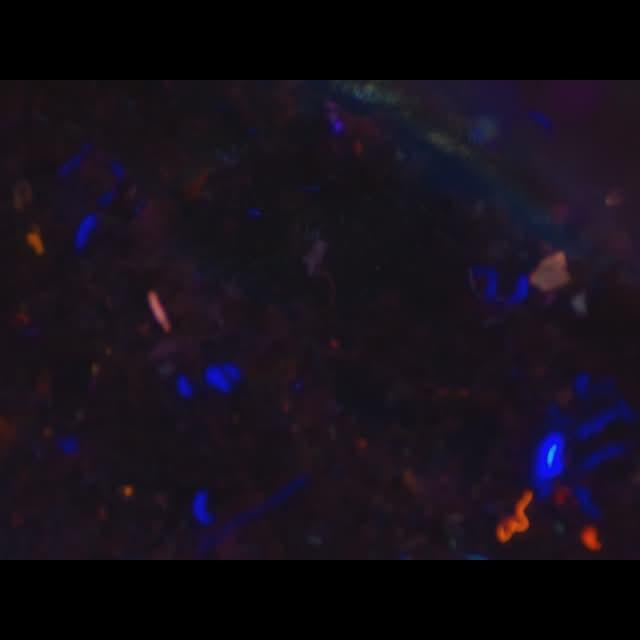Fragment: (496, 490, 533, 542)
